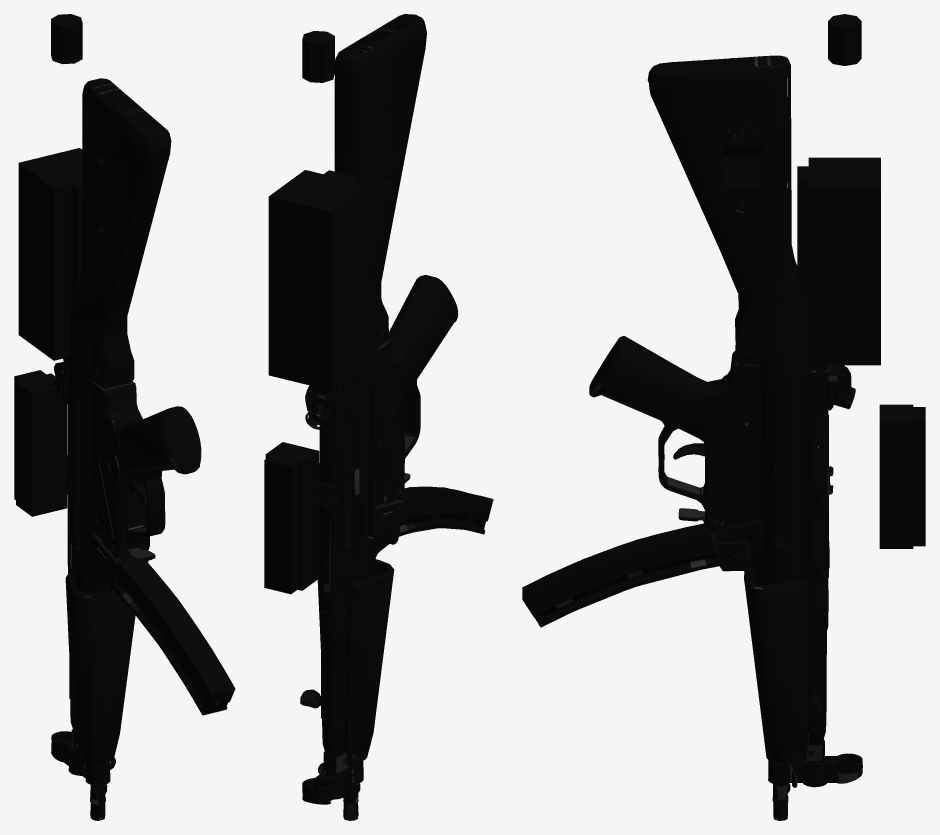
Rendered from MP5A3__Adapter_HK_3Lug__Handguard_MP5_Rail__Mount_HK_Claw.fbx.
3 views of the same model, side by side, from view 1: azimuth 30°, elevation 25°; view 2: azimuth 150°, elevation 25°; view 3: azimuth 270°, elevation 25° (orthographic). The views are drawn at different scales.
Parts seen in each view (by area): view 1: asset_MP5A3.001; view 2: asset_MP5A3.001; view 3: asset_MP5A3.001.
Boxes of the visible parts, left/top/right/bottom form: asset_MP5A3.001: left=14, top=14, right=235, bottom=820; asset_MP5A3.001: left=264, top=14, right=493, bottom=820; asset_MP5A3.001: left=522, top=14, right=925, bottom=820.
Size of the model in its own units: 0.0324 by 0.378 by 0.1734.
